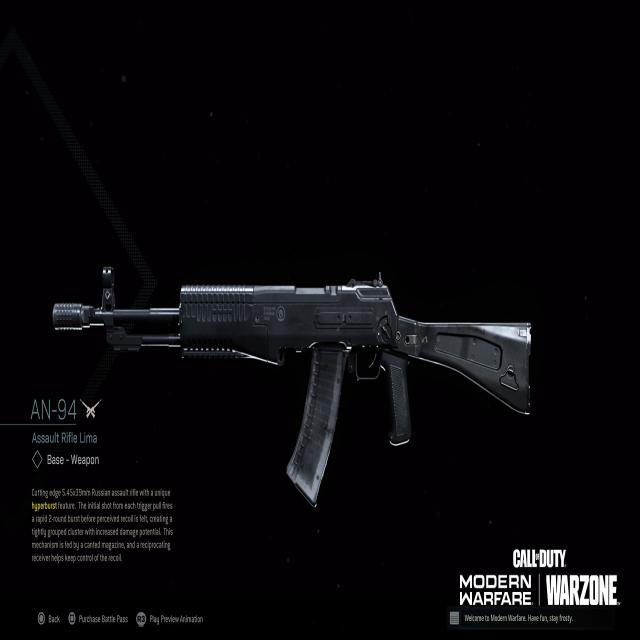Rifle: (68, 265, 532, 511)
